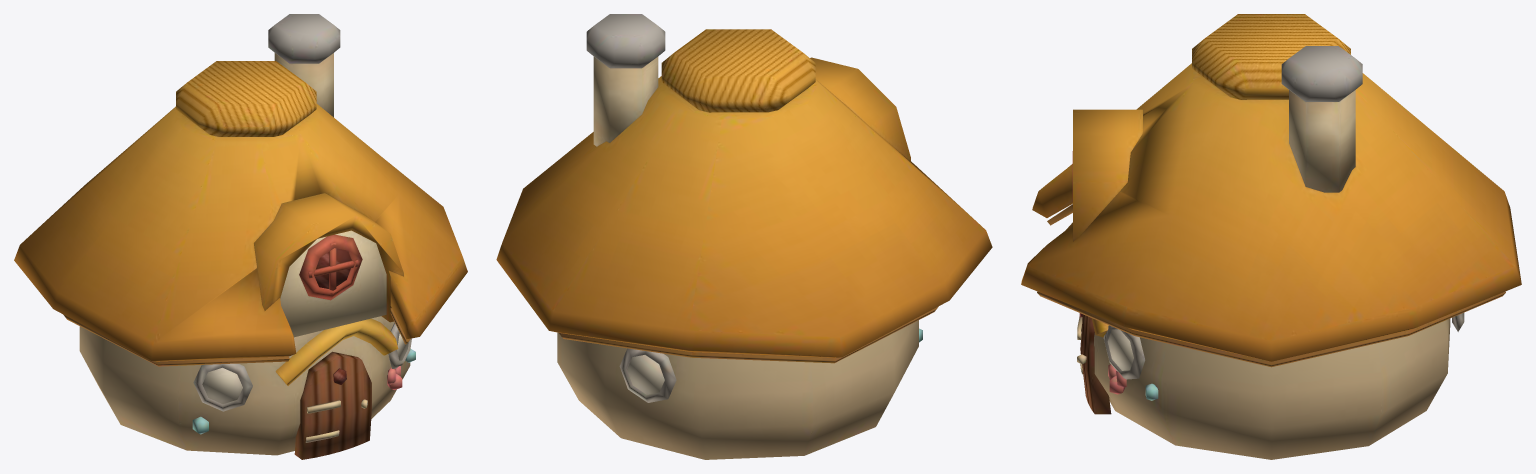
The model's file is hut_4_low.glb.
The picture shows the model from 3 angles, left to right: view 1: azimuth 30°, elevation 25°; view 2: azimuth 150°, elevation 25°; view 3: azimuth 270°, elevation 25°; orthographic projection. The views are drawn at different scales.
Visible parts, largest first — view 1: hut_4; view 2: hut_4; view 3: hut_4.
Part boxes in pixels (box(x1,y1,x2,y2)): hut_4: box(14, 14, 467, 459); hut_4: box(496, 14, 992, 459); hut_4: box(1021, 14, 1521, 459).
Size of the model in its own units: 1.62 by 1.3 by 1.58.
Materials: 1 (1 with a texture image).
